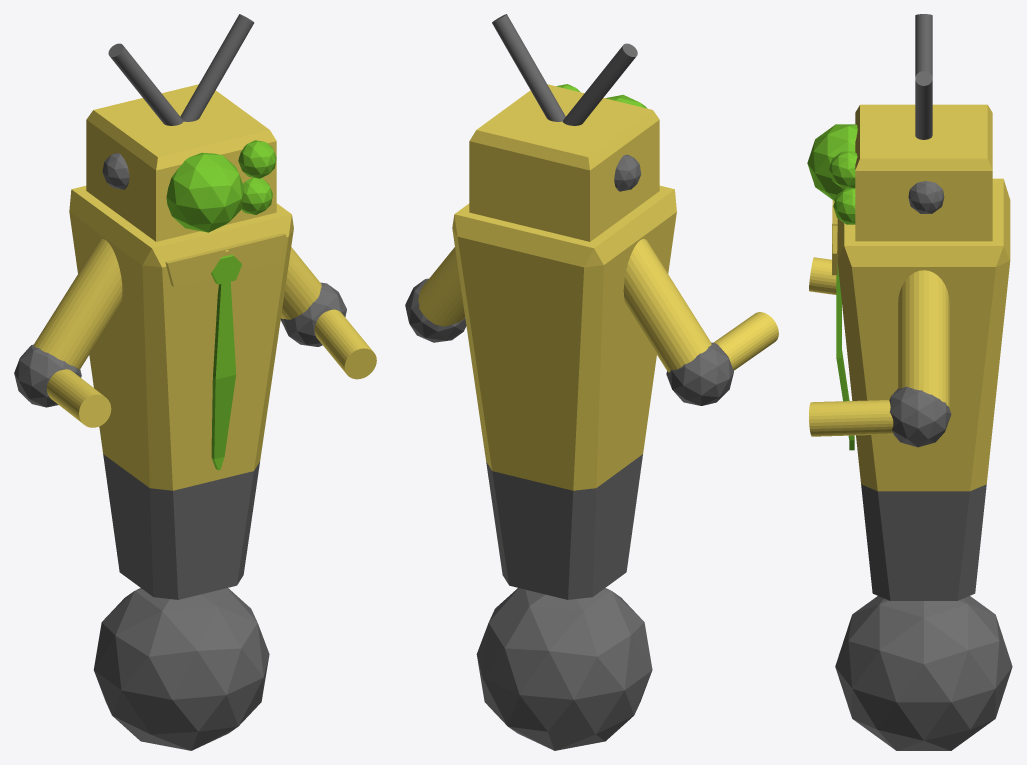
File: officeRobt.fbx
3 views of the same model, side by side, from view 1: azimuth 30°, elevation 25°; view 2: azimuth 150°, elevation 25°; view 3: azimuth 270°, elevation 25° (orthographic).
Visible parts, largest first — view 1: Cube, Icosphere, Cylinder.002, Icosphere.001, Plane.001, Cylinder.001, Cylinder.003, Cylinder.005, Icosphere.005, Cylinder.004, Cylinder, Icosphere.004 (+6 smaller); view 2: Cube, Icosphere, Cylinder.002, Icosphere.005, Cylinder, Cylinder.005, Cylinder.003, Cylinder.004, Icosphere.004, Icosphere.007; view 3: Cube, Icosphere, Cylinder, Cylinder.001, Icosphere.004, Icosphere.001, Cylinder.005, Cylinder.004, Icosphere.006, Plane.001, Icosphere.002, Cylinder.003 (+1 smaller).
Part boxes in pixels (box(x1,y1,x2,y2)): Cube: box(69, 84, 293, 599); Icosphere: box(93, 588, 269, 750); Cylinder.002: box(34, 239, 122, 369); Icosphere.001: box(166, 152, 244, 232); Plane.001: box(211, 282, 236, 470); Cylinder.001: box(314, 309, 376, 379); Cylinder.003: box(46, 369, 111, 427); Cylinder.005: box(180, 14, 254, 121); Icosphere.005: box(14, 344, 81, 407); Cylinder.004: box(108, 43, 183, 125); Cylinder: box(281, 247, 321, 319); Icosphere.004: box(280, 282, 346, 346); Cube: box(452, 84, 676, 599); Icosphere: box(476, 588, 652, 750); Cylinder.002: box(623, 239, 711, 372); Icosphere.005: box(666, 342, 733, 405); Cylinder: box(418, 247, 464, 326); Cylinder.005: box(492, 14, 565, 121); Cylinder.003: box(713, 312, 778, 370); Cylinder.004: box(562, 43, 637, 125); Icosphere.004: box(405, 278, 466, 342); Icosphere.007: box(614, 154, 641, 191); Cube: box(837, 104, 1010, 600); Icosphere: box(835, 596, 1012, 750); Cylinder: box(898, 270, 949, 407); Cylinder.001: box(809, 400, 893, 436); Icosphere.004: box(889, 386, 951, 447); Icosphere.001: box(807, 124, 857, 201); Cylinder.005: box(915, 71, 932, 139); Cylinder.004: box(915, 14, 932, 77); Icosphere.006: box(908, 181, 944, 213); Plane.001: box(836, 264, 854, 450); Icosphere.002: box(829, 151, 857, 188); Cylinder.003: box(809, 257, 836, 294).
Bounding box in the file's own units: 414 × 876 × 231.
